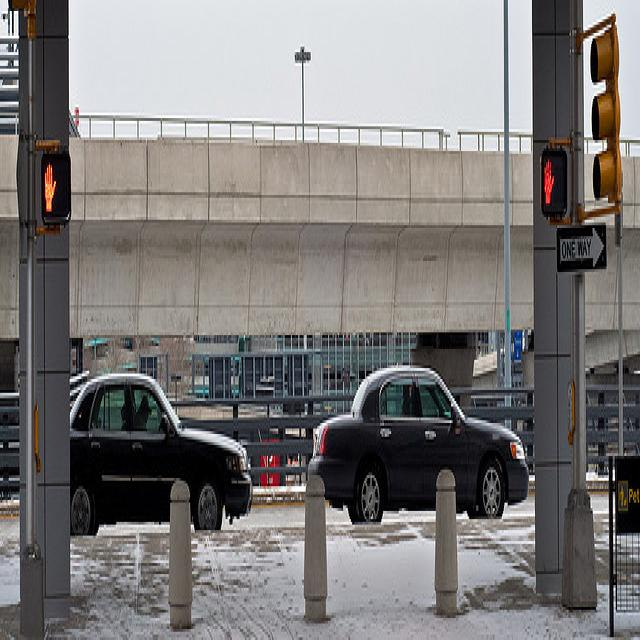Vehicle: (309, 357, 528, 525), (70, 372, 252, 534)
